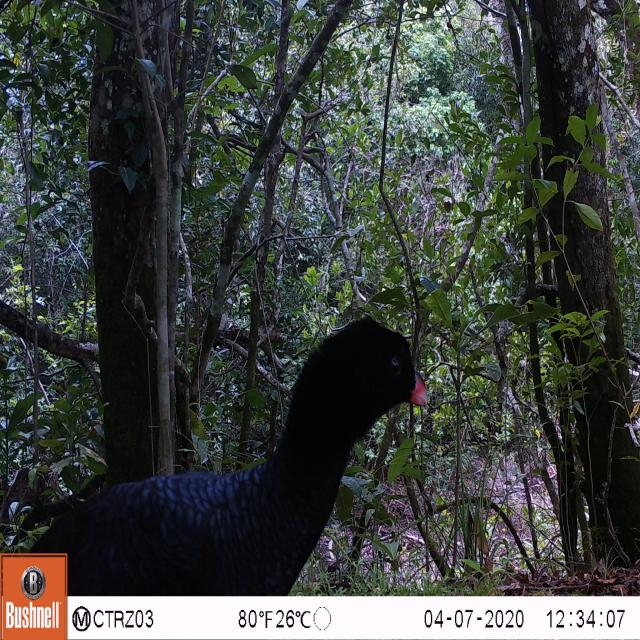Salvins Curassow: (39, 290, 439, 596)
